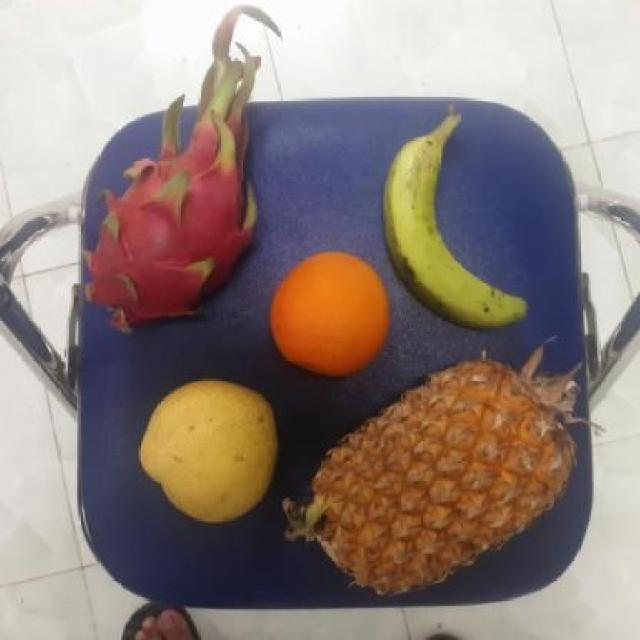banana: (380, 133, 537, 336)
dragon fruit: (83, 135, 262, 326)
oren: (268, 249, 390, 380)
pear: (132, 377, 283, 521)
pineapple: (316, 354, 579, 601)
